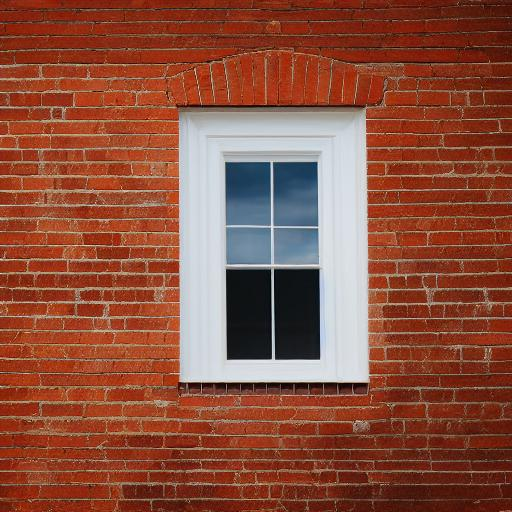Window: (169, 48, 392, 398)
